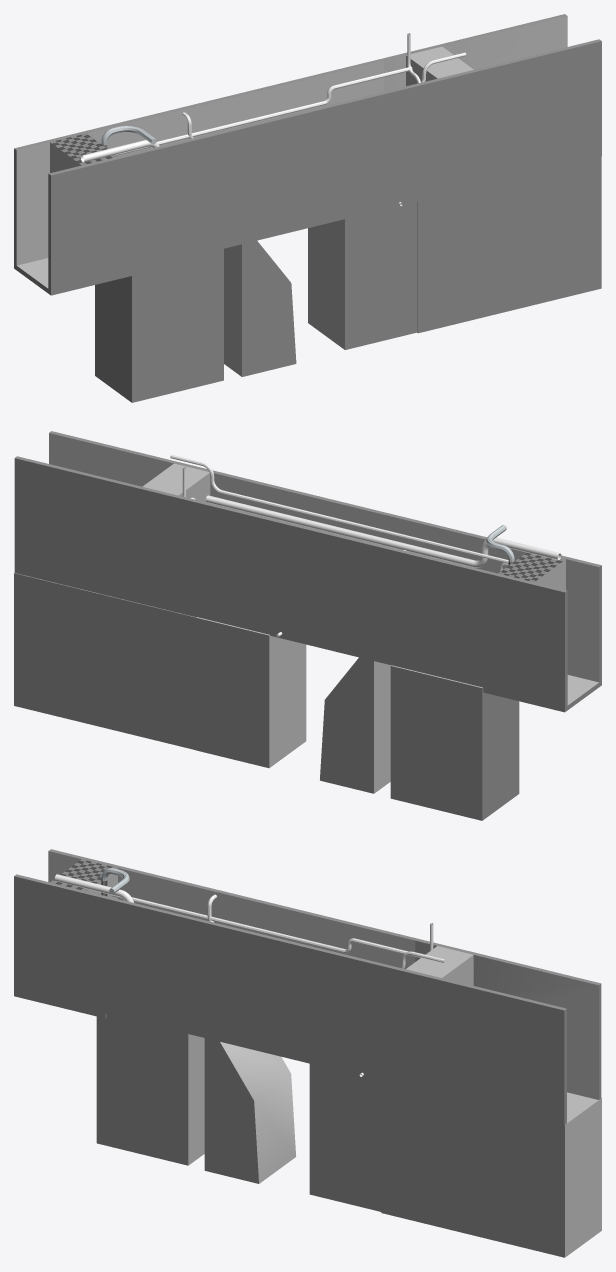
File: game1.fbx
3 views of the same model, one above another, from view 1: azimuth 30°, elevation 25°; view 2: azimuth 150°, elevation 25°; view 3: azimuth 330°, elevation 25° (orthographic).
Visible parts, largest first — view 1: Group_9, Group_4, Group_14, Group_8, Group_6, Group_12, Group, Group_5, Group_13, Polygon, Group_2, Group_11 (+3 smaller); view 2: Group_9, Group_5, Group_13, Polygon, Group_6, Group_12, Group, Group_4, Group_8, Group_14, Group_16, D_0_30_m (+3 smaller); view 3: Group_9, Group_8, Group_4, Group_14, Group_6, Group, Group_12, Polygon, Group_13, Group_5, Group_11, Group_18 (+2 smaller).
Boxes of the visible parts, x1,y1,x2,y2 form: Group_9: (417, 156, 601, 333); Group_4: (48, 129, 234, 290); Group_14: (232, 84, 418, 245); Group_8: (416, 39, 601, 200); Group_6: (95, 248, 223, 402); Group_12: (308, 201, 417, 349); Group: (224, 240, 296, 376); Group_5: (14, 103, 200, 265); Group_13: (198, 59, 383, 136); Polygon: (381, 14, 567, 91); Group_2: (50, 133, 117, 172); Group_11: (406, 46, 473, 86); Group_9: (14, 573, 195, 750); Group_5: (381, 546, 567, 707); Group_13: (198, 501, 383, 662); Polygon: (14, 456, 199, 617); Group_6: (390, 665, 519, 820); Group_12: (196, 617, 306, 768); Group: (320, 657, 390, 793); Group_4: (416, 520, 601, 682); Group_8: (49, 431, 234, 500); Group_14: (232, 476, 417, 545); Group_16: (205, 495, 561, 567); D_0_30_m: (170, 454, 508, 563); Group_9: (381, 1081, 601, 1257); Group_8: (381, 964, 566, 1125); Group_4: (14, 874, 199, 1035); Group_14: (197, 919, 382, 1080); Group_6: (96, 1014, 204, 1165); Group: (204, 1038, 296, 1183); Group_12: (309, 1064, 381, 1211); Polygon: (415, 938, 601, 1099); Group_13: (232, 894, 417, 968); Group_5: (48, 849, 233, 926); Group_11: (406, 946, 473, 985); Group_18: (111, 895, 421, 958).
Size of the model in its own units: 6002 by 2842 by 807.
